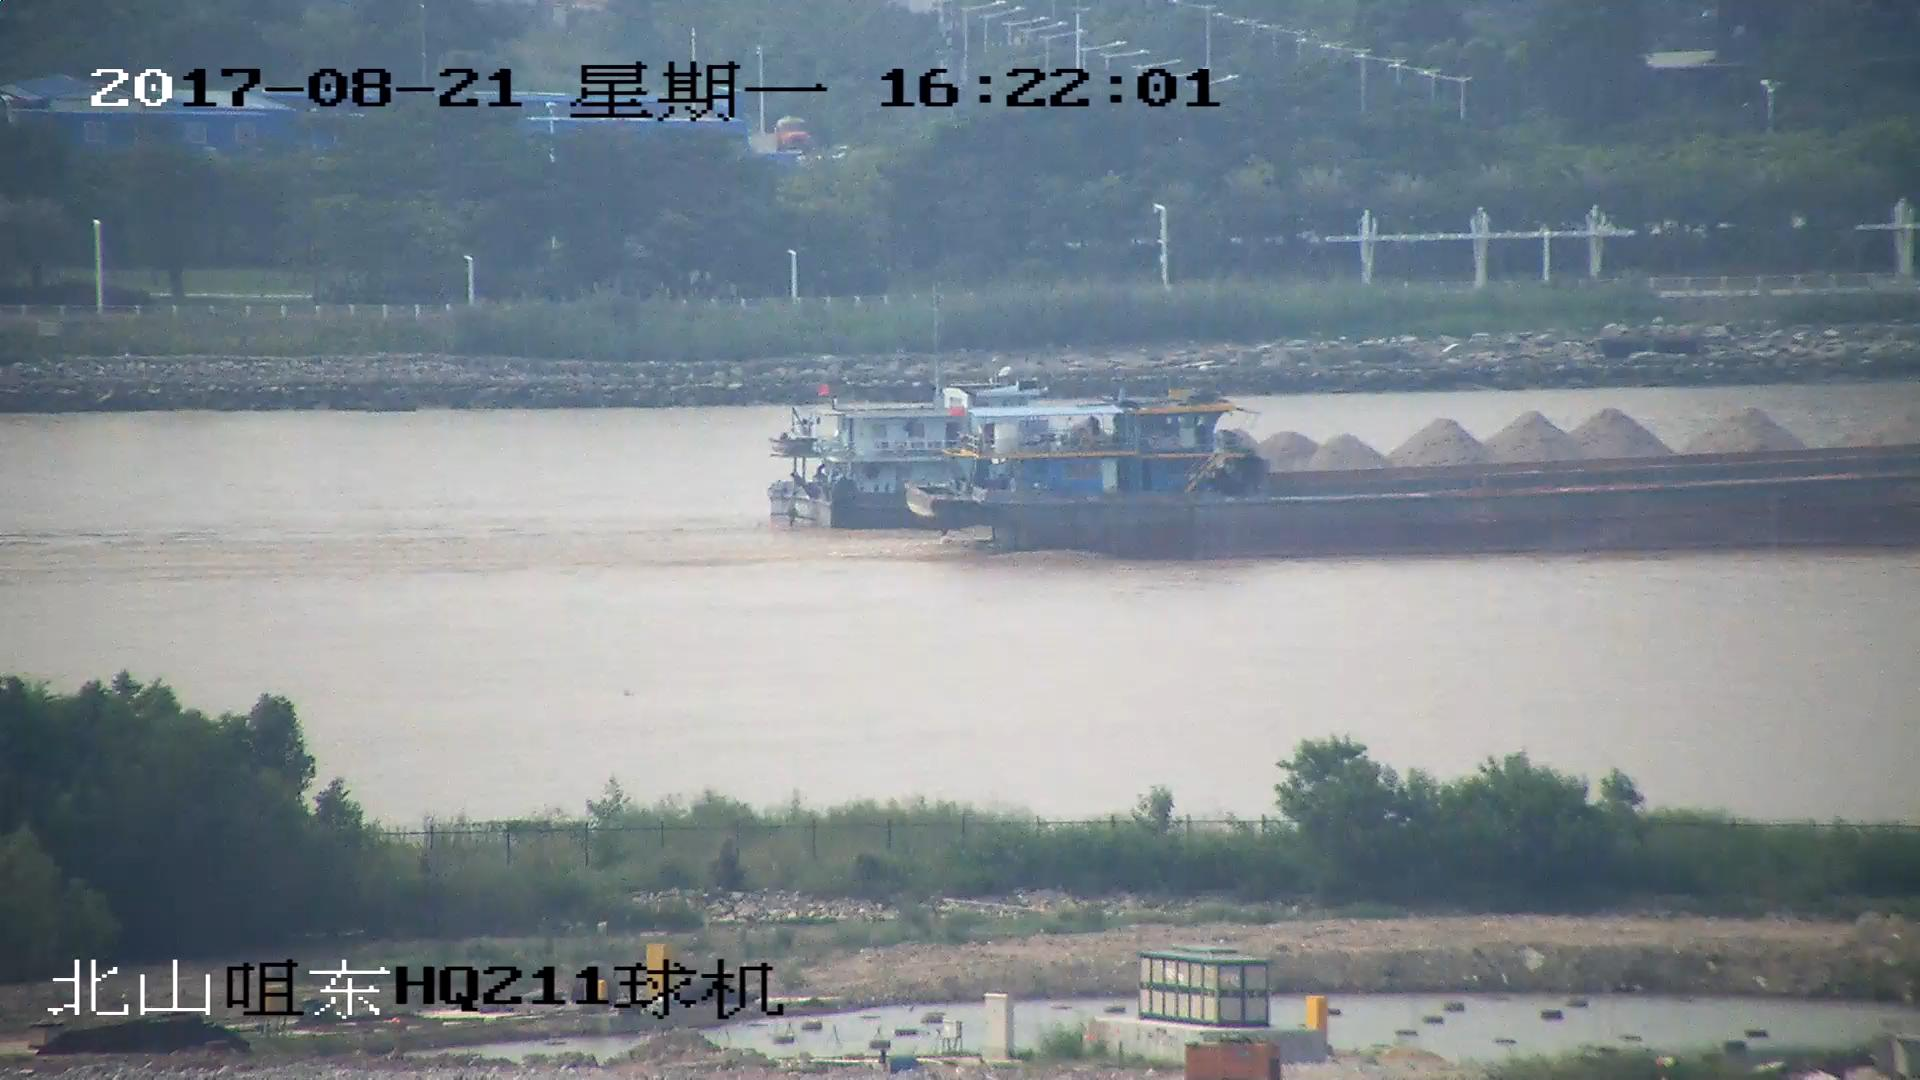bulk cargo carrier: (906, 414, 1920, 559)
ore carrier: (759, 382, 1920, 530)
